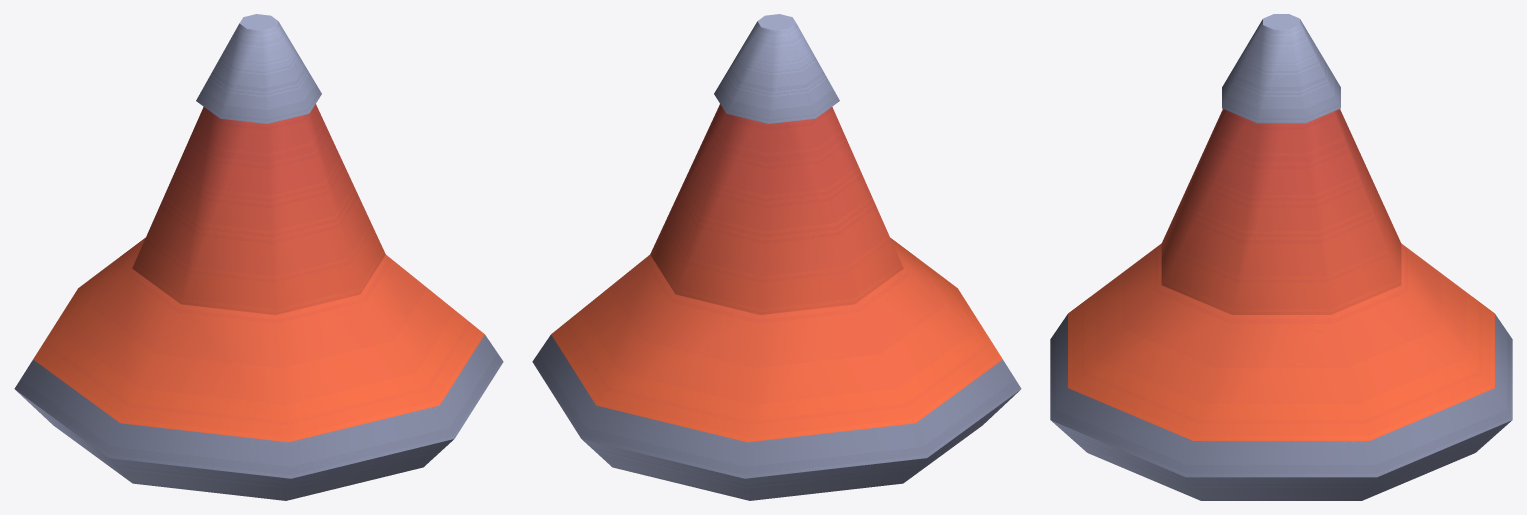
Rendered from tower-roof_lev2.glb.
3 renders of one model, left to right at view 1: azimuth 30°, elevation 25°; view 2: azimuth 150°, elevation 25°; view 3: azimuth 270°, elevation 25°, orthographic.
Parts seen in each view (by area): view 1: tower-roof_lev2; view 2: tower-roof_lev2; view 3: tower-roof_lev2.
Part boxes in pixels (left/top/right/bottom): tower-roof_lev2: left=14, top=14, right=503, bottom=500; tower-roof_lev2: left=532, top=14, right=1021, bottom=500; tower-roof_lev2: left=1050, top=14, right=1512, bottom=500.
Bounding box in the file's own units: 7.2 × 6.82 × 7.2.
Materials: 1 (1 with a texture image).
